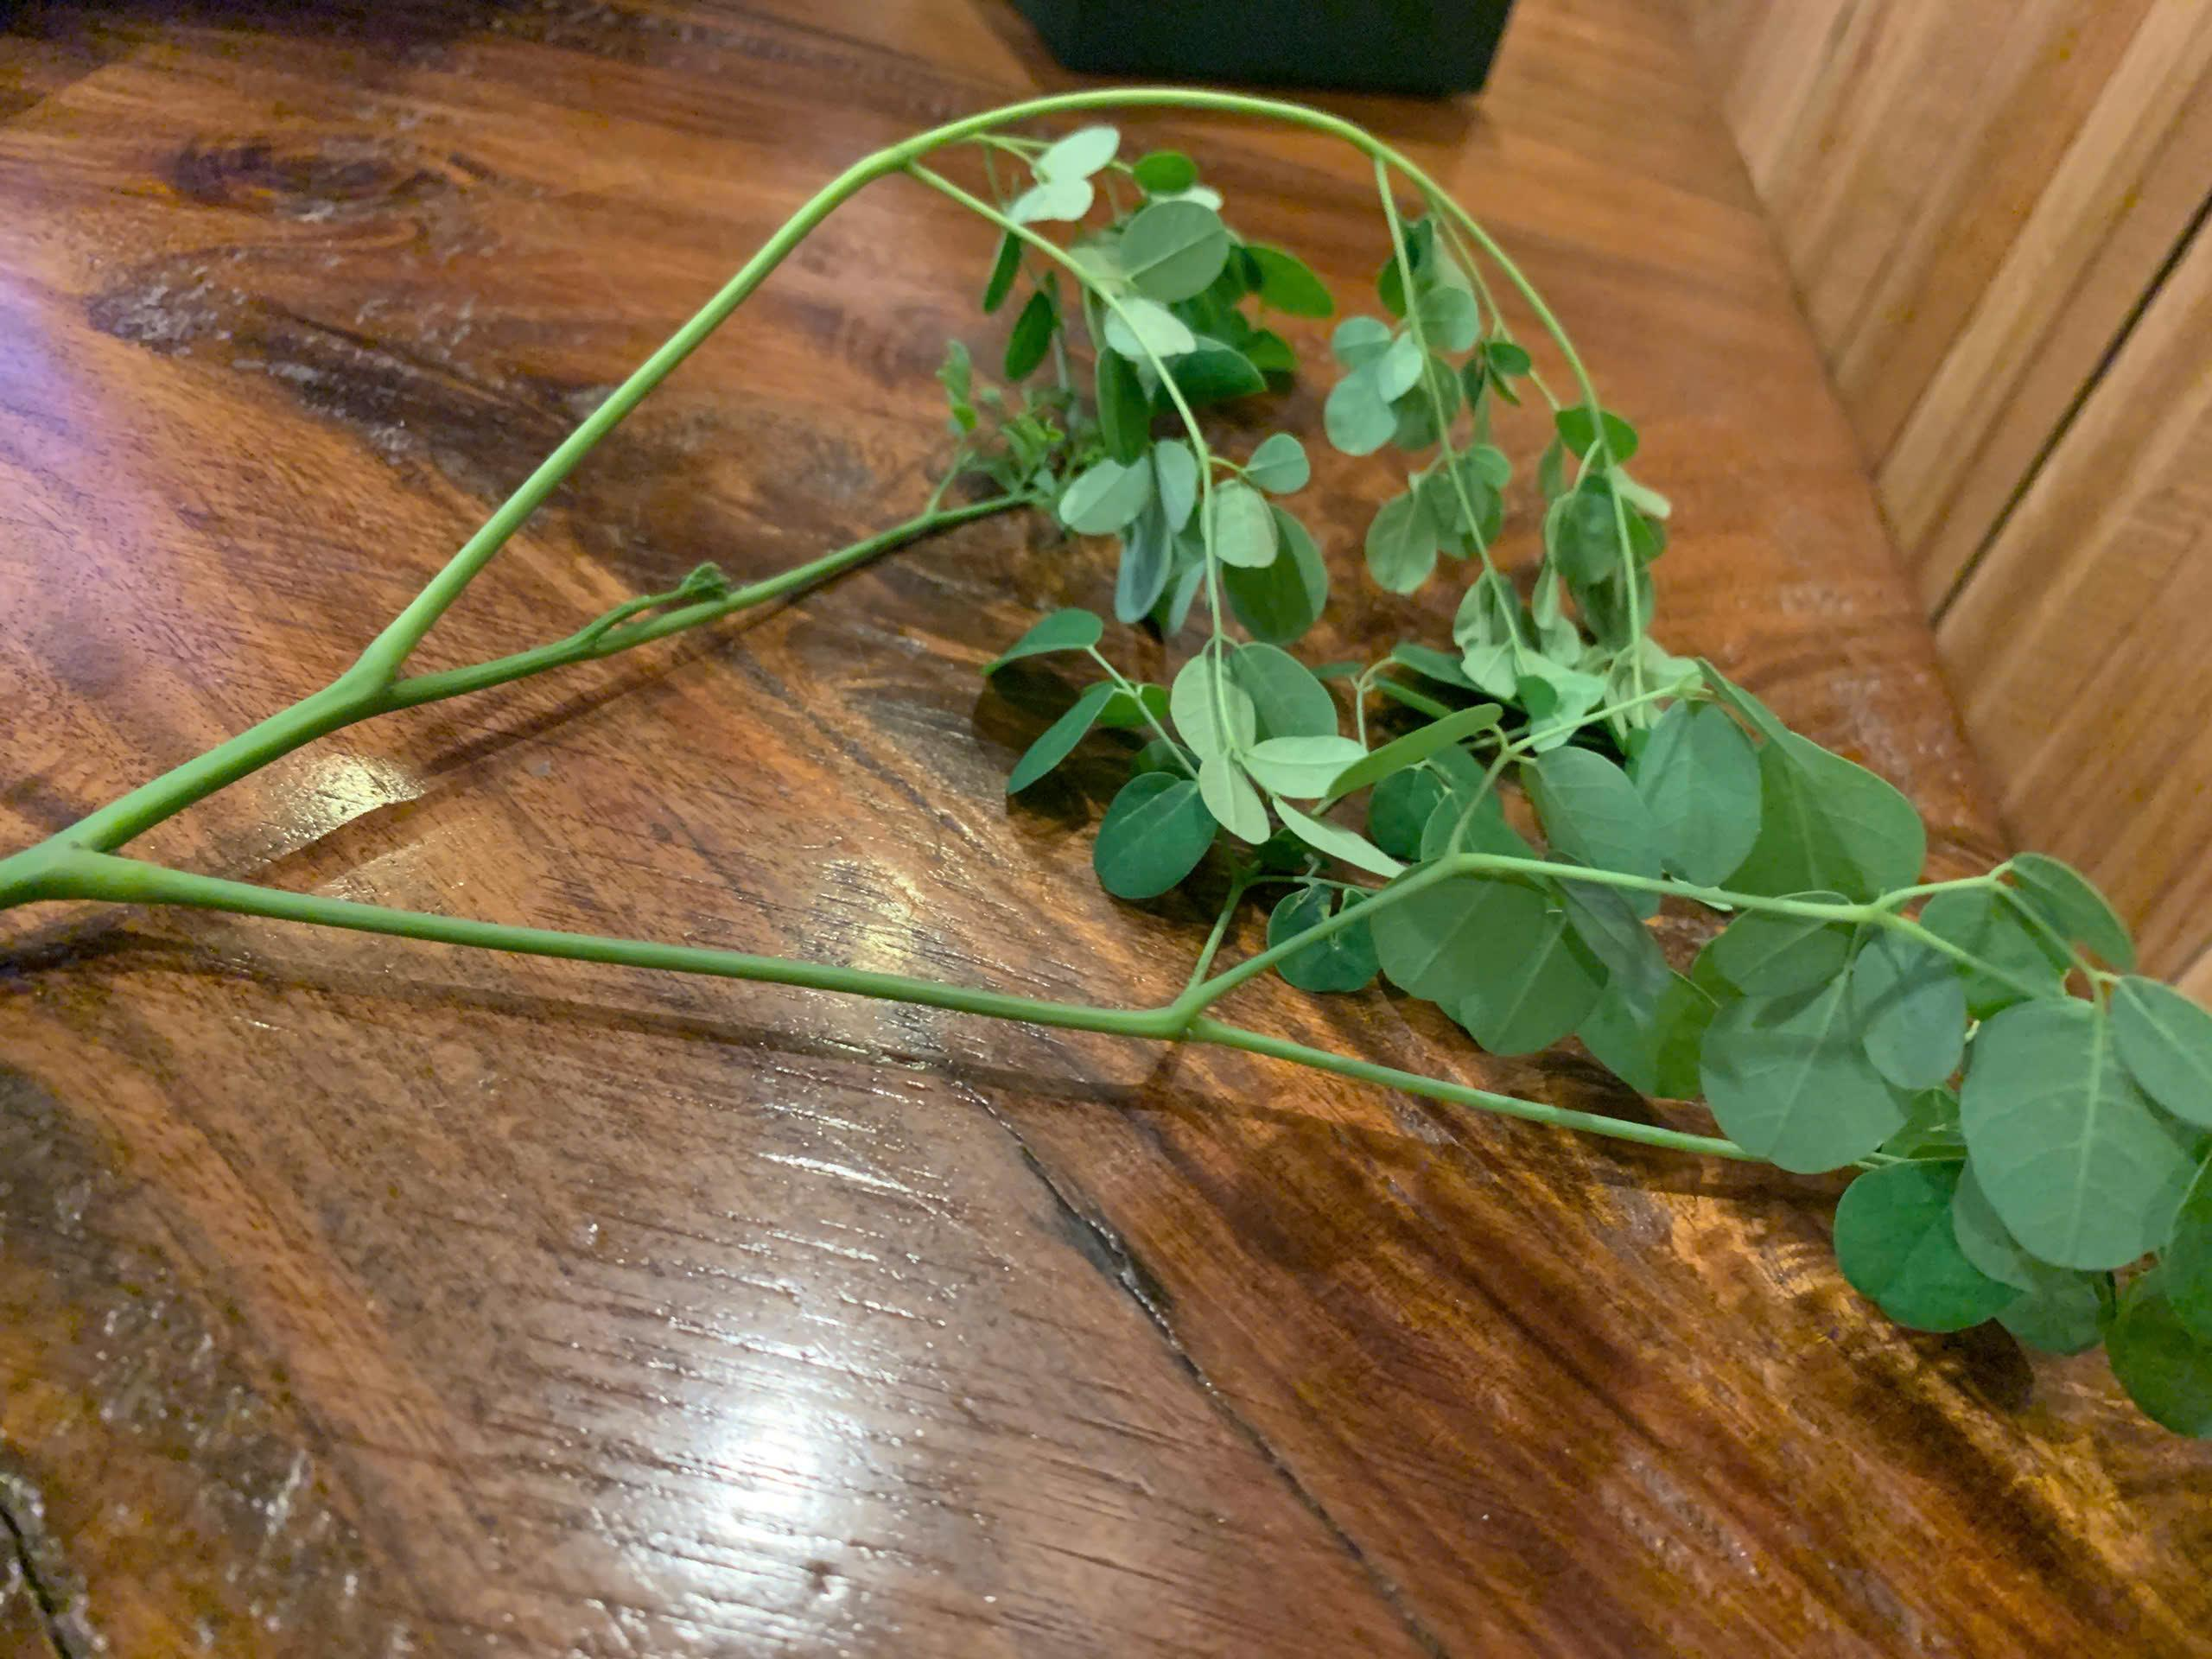Huu co: (305, 99, 2189, 1180)
